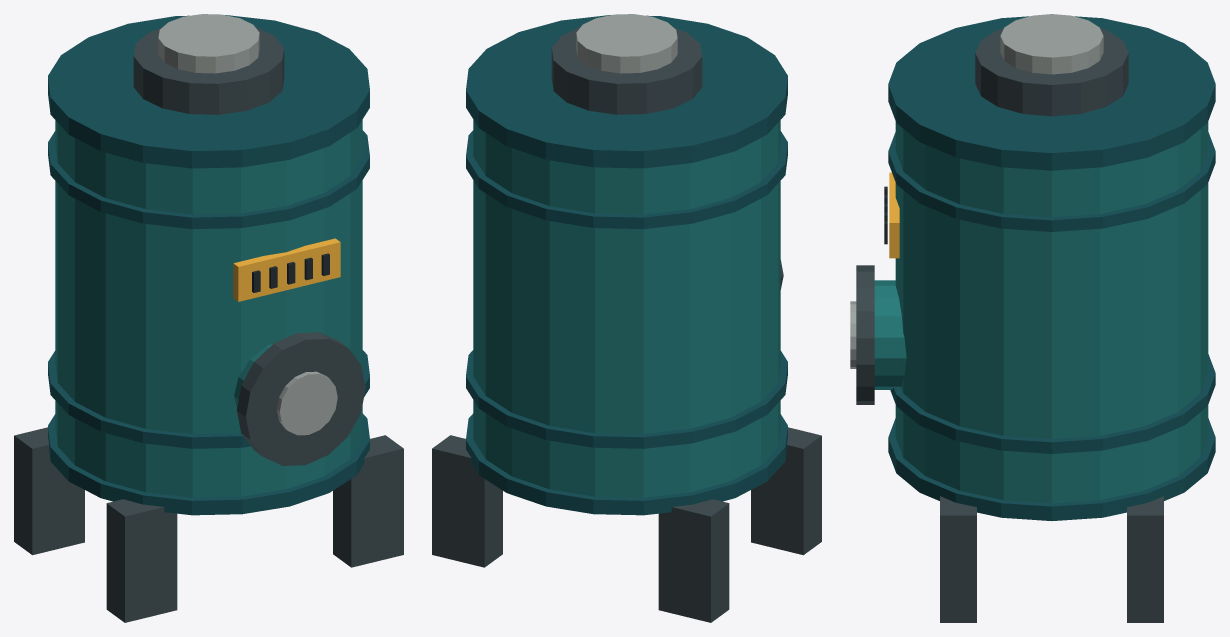
File: reservoir.glb
The picture shows the model from 3 angles, left to right: view 1: azimuth 30°, elevation 25°; view 2: azimuth 150°, elevation 25°; view 3: azimuth 270°, elevation 25°; orthographic projection.
Visible parts, largest first — view 1: reservoir; view 2: reservoir; view 3: reservoir.
Part boxes in pixels (box(x1,y1,x2,y2)): reservoir: box(14, 14, 403, 622); reservoir: box(432, 14, 821, 622); reservoir: box(850, 14, 1215, 622).
Size of the model in its own units: 1.02 by 1.77 by 1.13.
